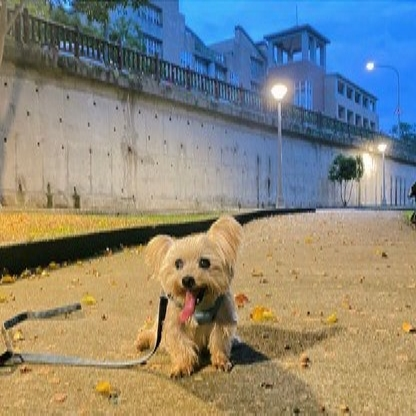yorkshire: (135, 212, 244, 379)
